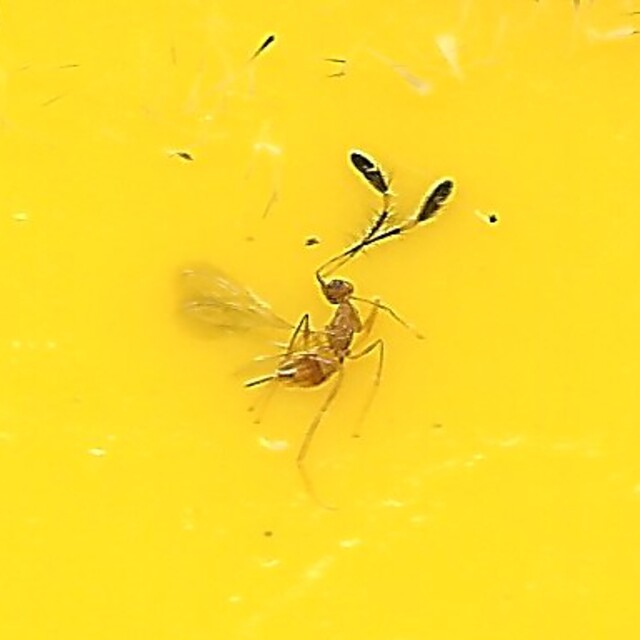Hymenoptera: (167, 151, 473, 489)
